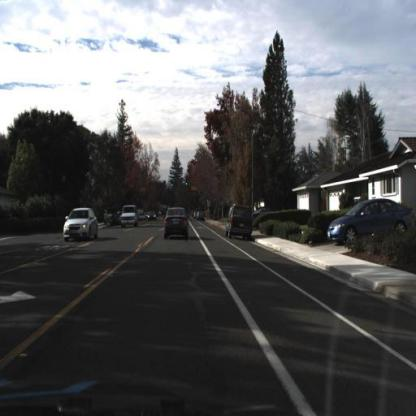car: (327, 198, 415, 248), (62, 207, 100, 245), (162, 205, 193, 245), (224, 204, 256, 240), (251, 206, 275, 228), (120, 205, 140, 229), (147, 209, 159, 224)
trafficLight-Green: (171, 177, 176, 190), (186, 176, 189, 188)
